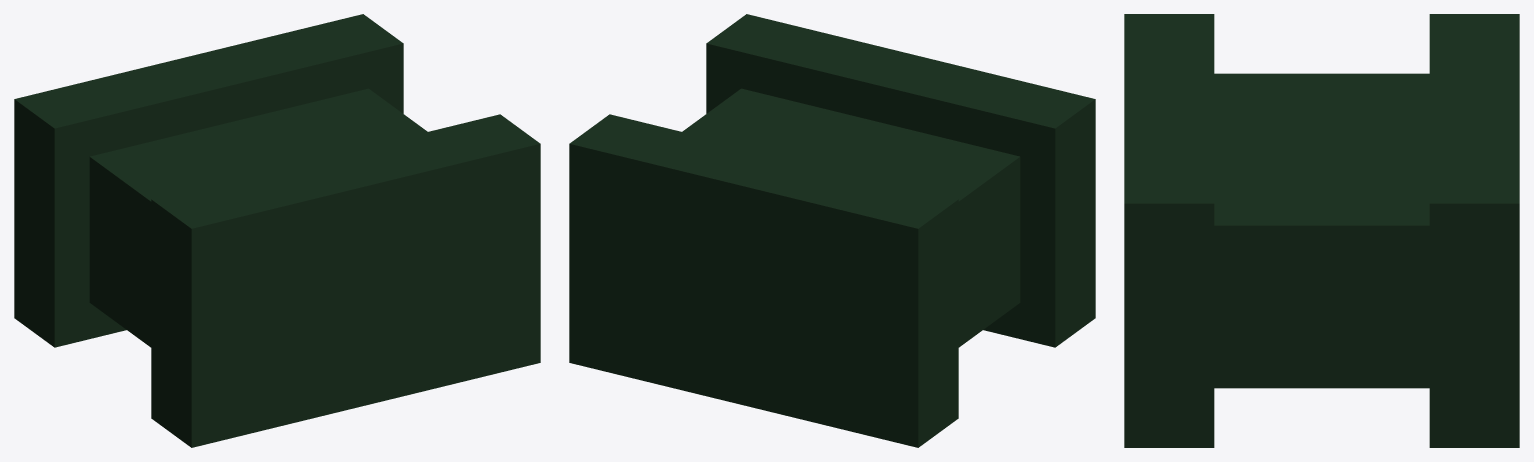
File: robot_base.dae
3 views of the same model, side by side, from view 1: azimuth 30°, elevation 25°; view 2: azimuth 150°, elevation 25°; view 3: azimuth 270°, elevation 25° (orthographic). The views are drawn at different scales.
Visible parts, largest first — view 1: Cube; view 2: Cube; view 3: Cube.
Part boxes in pixels (x1,y1,x2,y2): Cube: [14, 14, 540, 447]; Cube: [569, 14, 1095, 447]; Cube: [1124, 14, 1519, 447].
Size of the model in its own units: 5 by 4.4 by 3.
